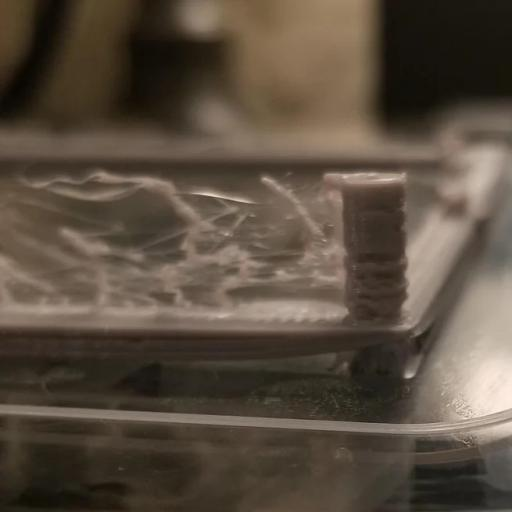stringing: (25, 171, 346, 311)
